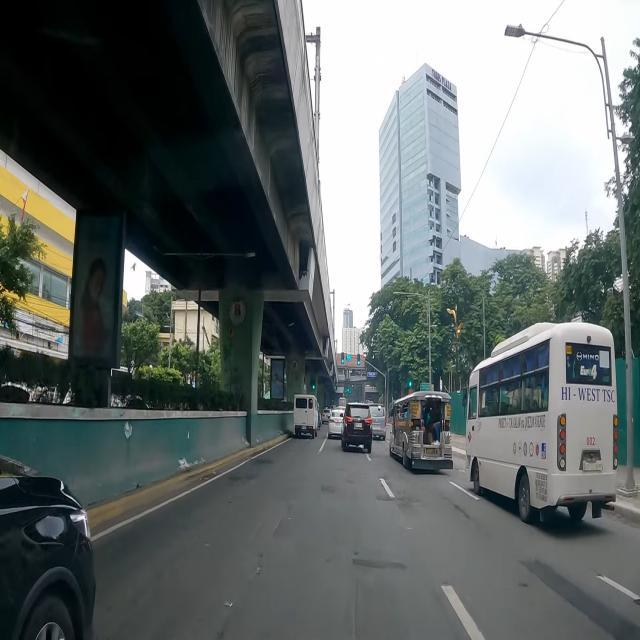bus: (338, 397, 346, 408)
car: (0, 458, 96, 640), (341, 403, 373, 454), (368, 403, 386, 440), (328, 410, 345, 438), (322, 408, 332, 424)
jeepney: (466, 319, 618, 522), (388, 390, 452, 470)
truck: (293, 394, 319, 437)
